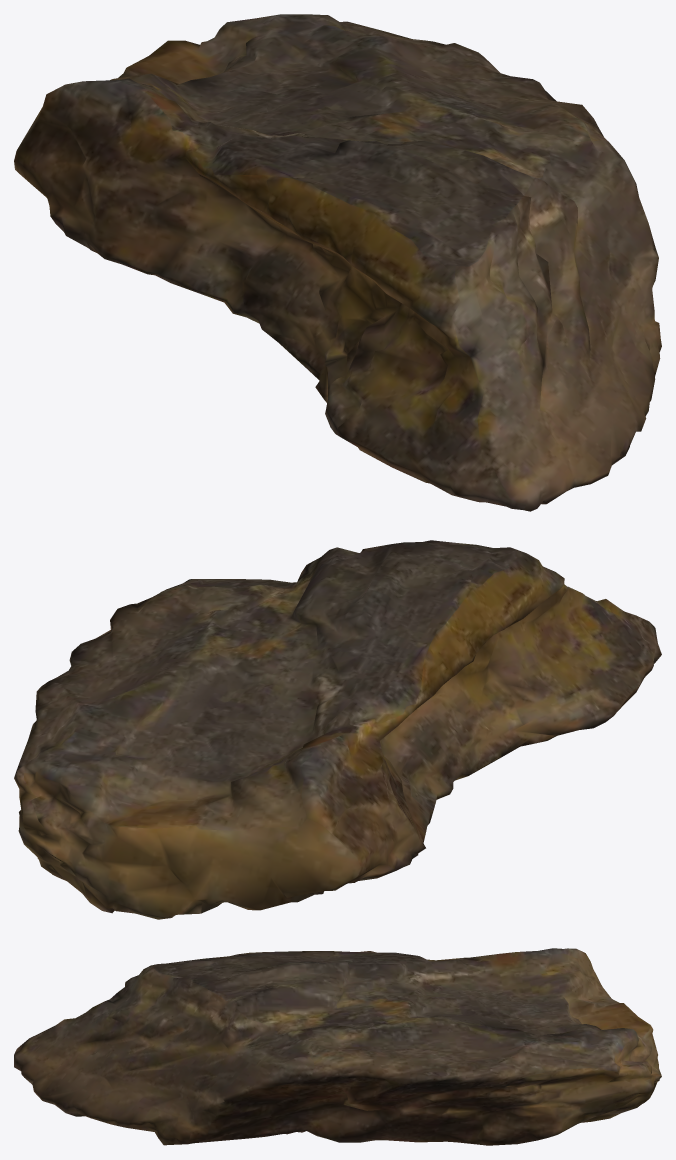
File: rock_09.glb
3 views of the same model, one above another, from view 1: azimuth 30°, elevation 25°; view 2: azimuth 150°, elevation 25°; view 3: azimuth 270°, elevation 25° (orthographic). The views are drawn at different scales.
Parts seen in each view (by area): view 1: rock_09_LOD0; view 2: rock_09_LOD0; view 3: rock_09_LOD0.
Boxes of the visible parts, x1,y1,x2,y2 form: rock_09_LOD0: (14, 14, 661, 511); rock_09_LOD0: (14, 540, 661, 919); rock_09_LOD0: (14, 948, 661, 1145).
Size of the model in its own units: 0.074 by 0.0328 by 0.1446.
Materials: 1 (1 with a texture image).
